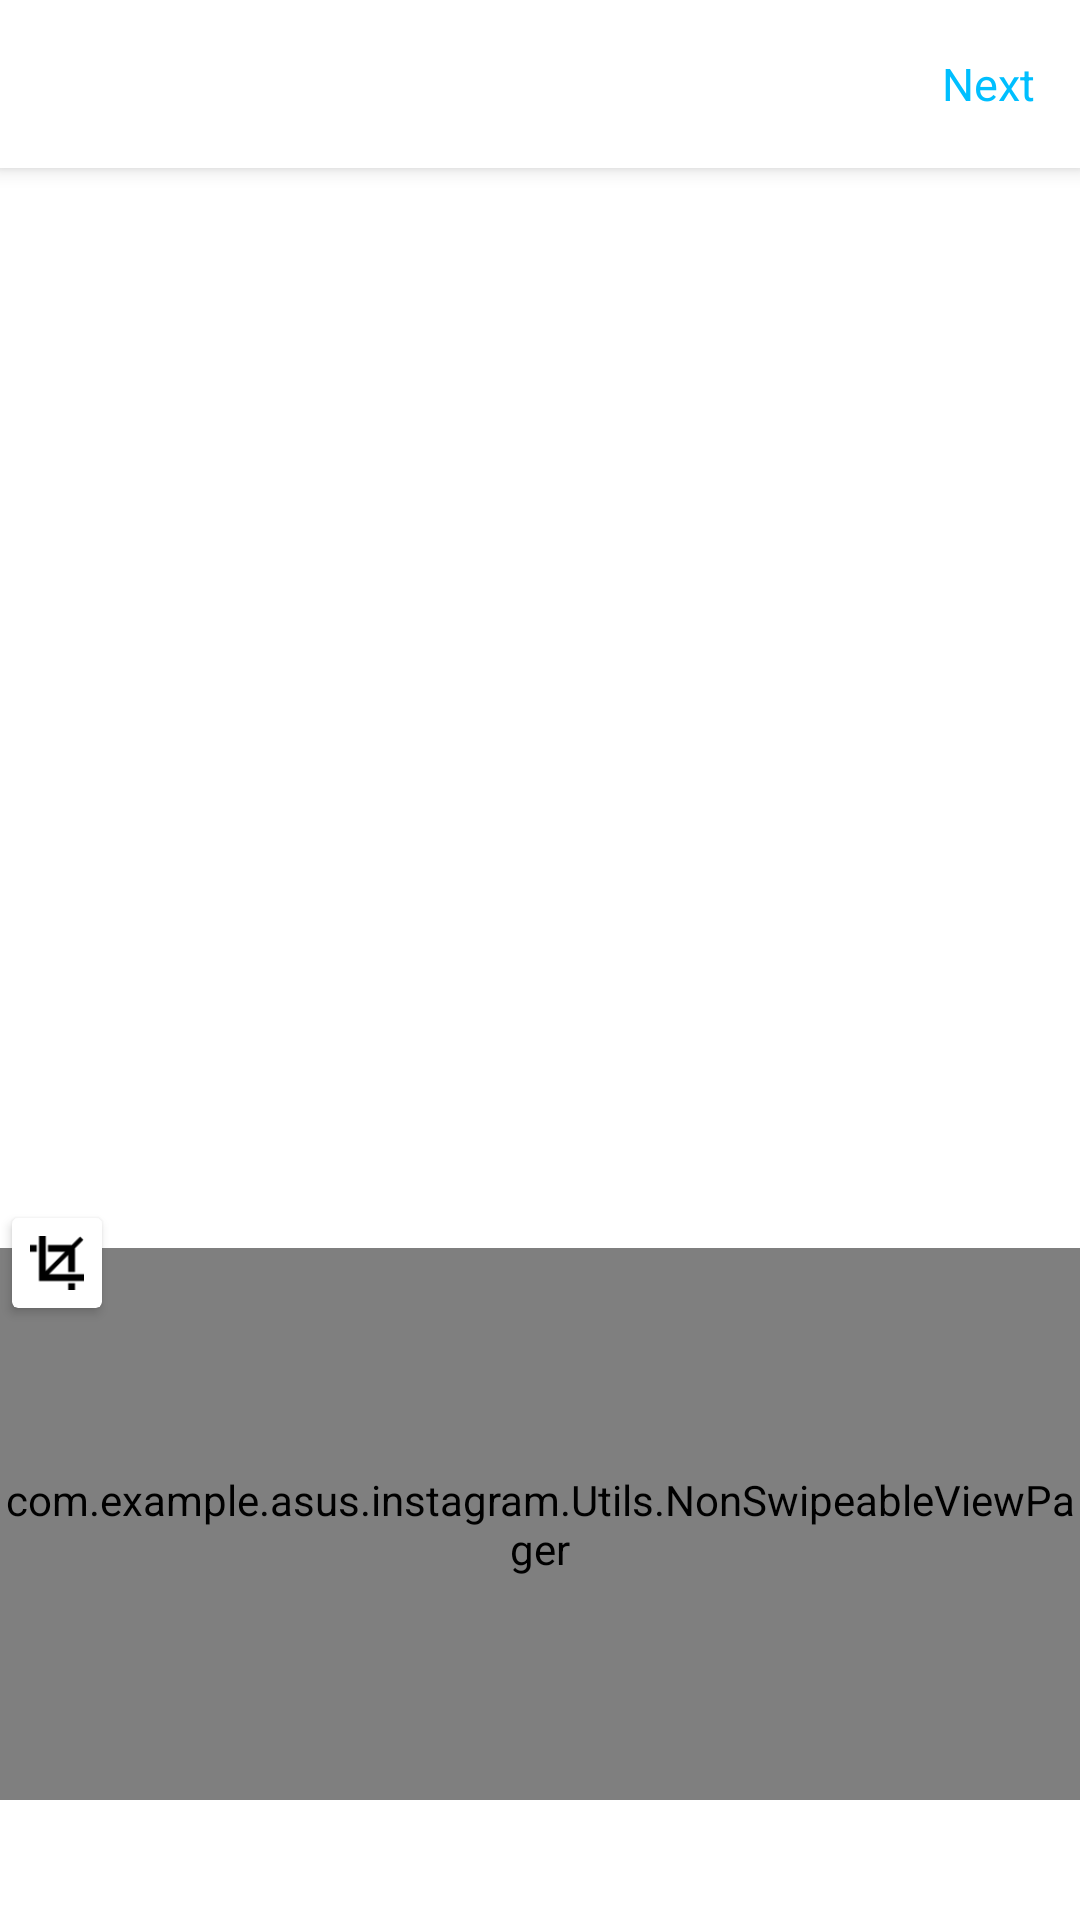

Named icons in this screenshot (1080w x 1920h) and their bounding boxes, (x1, y1, x2, y2):
crop: (30, 1236, 84, 1290)
